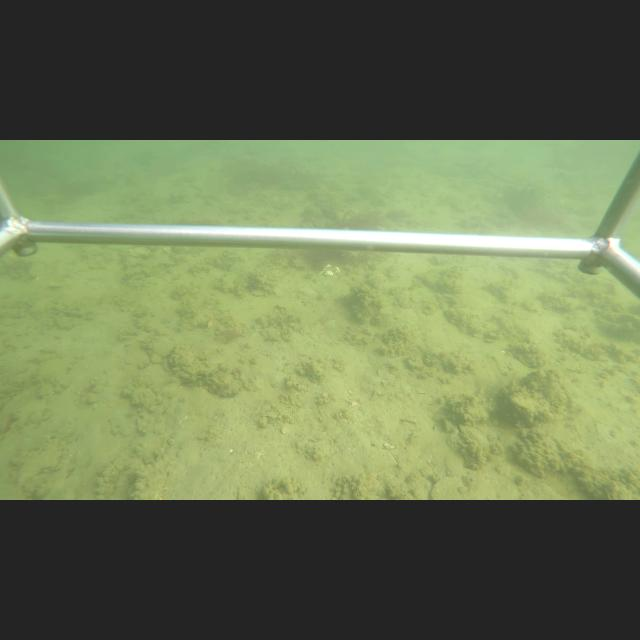Oyster-Open: (454, 420, 468, 440)
